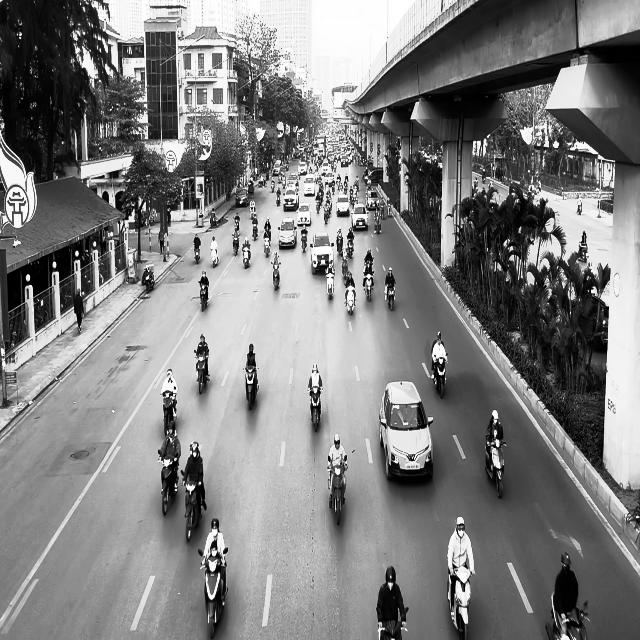car: (378, 380, 434, 481), (310, 231, 333, 274), (277, 217, 297, 249), (351, 204, 368, 230), (283, 187, 299, 211), (297, 202, 312, 225), (336, 194, 349, 216), (235, 187, 249, 207)
motorbike: (198, 546, 228, 638), (545, 592, 590, 640), (447, 565, 474, 639), (157, 448, 179, 516), (182, 475, 203, 542), (327, 456, 347, 525), (485, 436, 506, 498), (243, 365, 259, 410), (194, 349, 209, 394), (432, 354, 447, 398), (308, 386, 322, 431), (162, 391, 176, 436), (344, 283, 356, 315), (384, 282, 396, 311), (198, 280, 209, 311), (143, 264, 155, 292), (363, 271, 374, 301), (325, 268, 335, 299), (270, 260, 280, 290), (242, 245, 251, 269), (263, 231, 271, 257), (232, 232, 240, 256), (210, 246, 218, 267), (194, 242, 200, 264), (252, 219, 258, 240)
